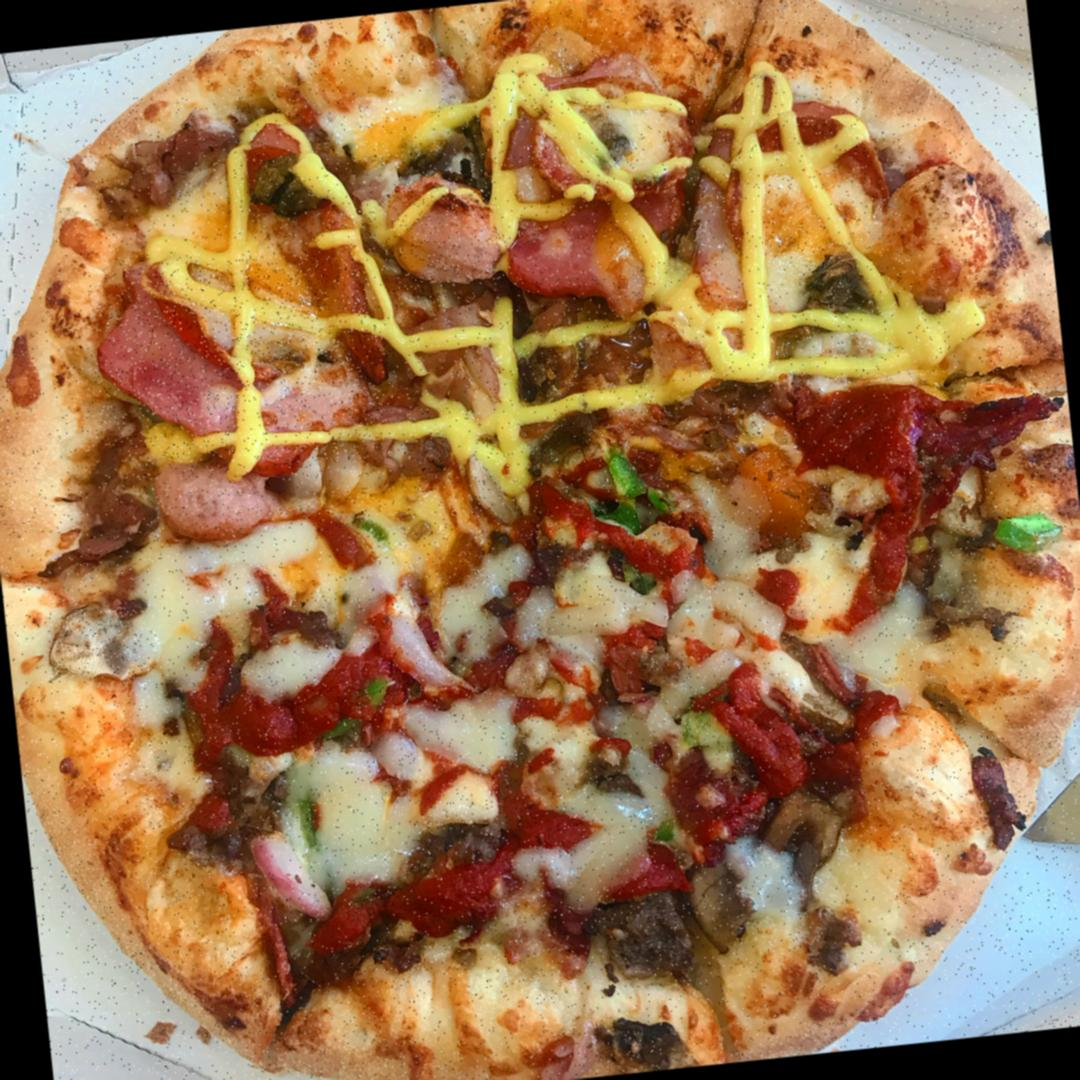Ham: (88, 246, 384, 486), (493, 104, 691, 292), (385, 173, 505, 292), (154, 451, 274, 541)
Mushroom: (45, 602, 161, 678)
Pizza: (0, 0, 1080, 1080)
